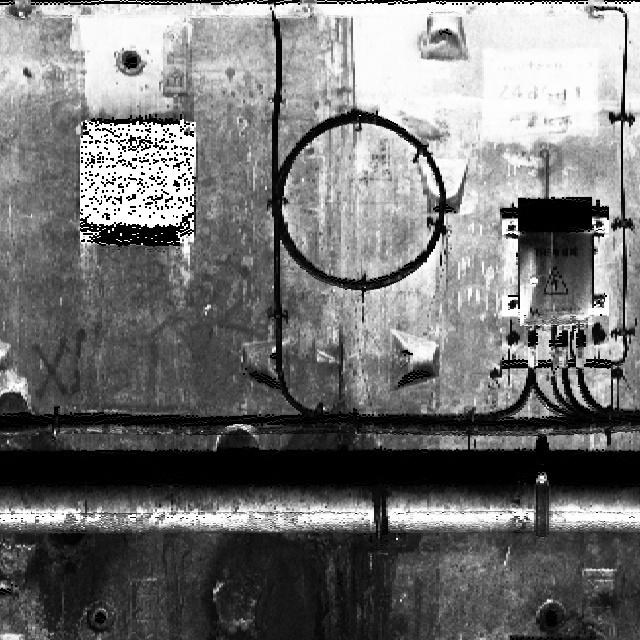leakage: (200, 525, 413, 639), (3, 519, 135, 639), (274, 382, 382, 450), (18, 423, 74, 456)
